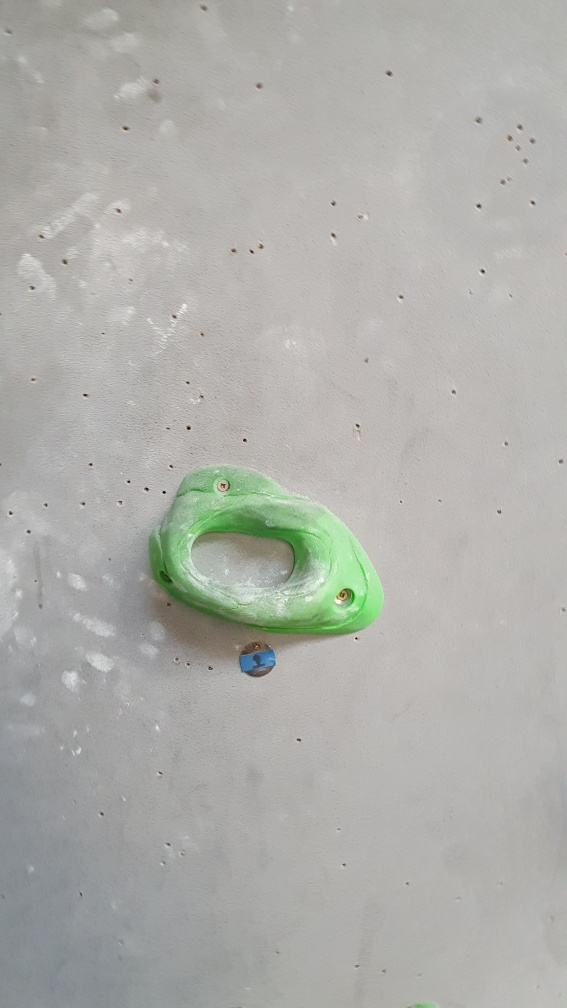Hand Start: (235, 635, 279, 681)
Pocket: (142, 459, 391, 636)
